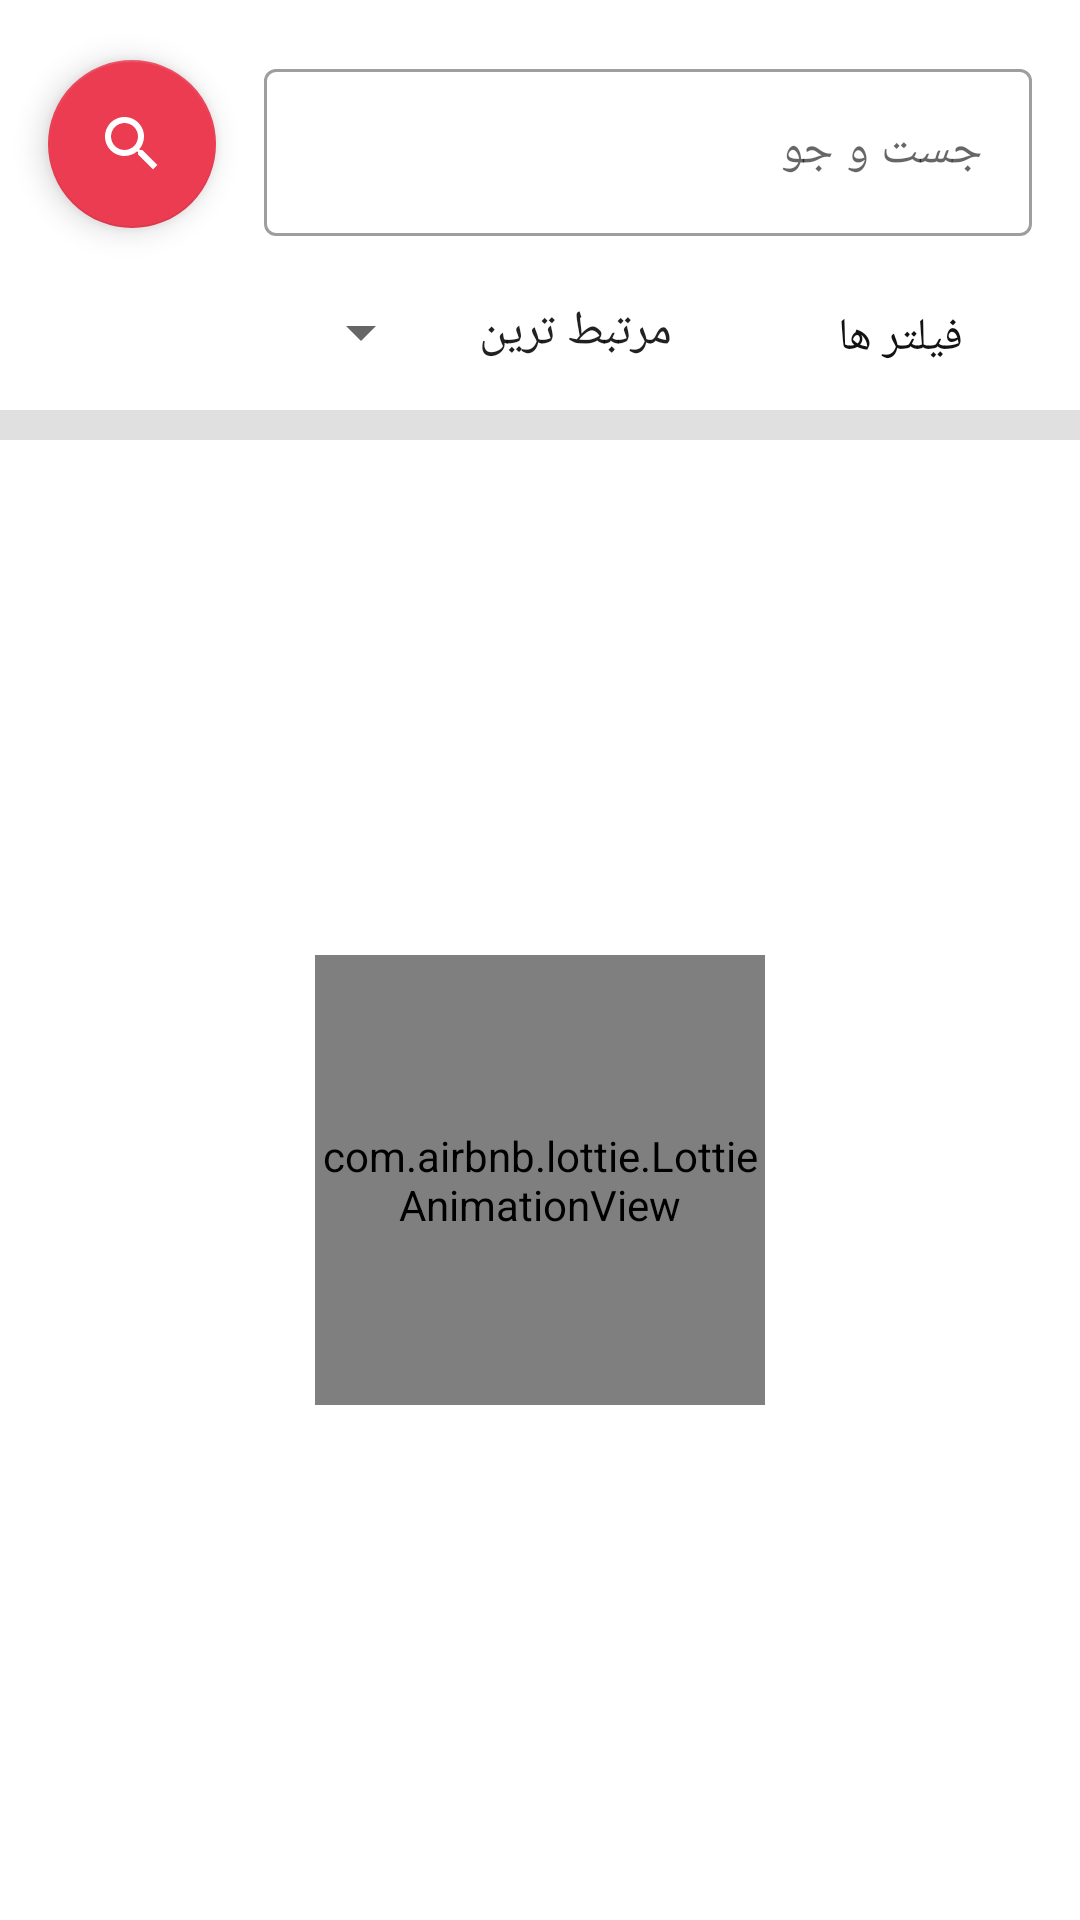

Point at icon controls on the screen. Image size 1080*1920, points as (x,y).
search: (132,144)
